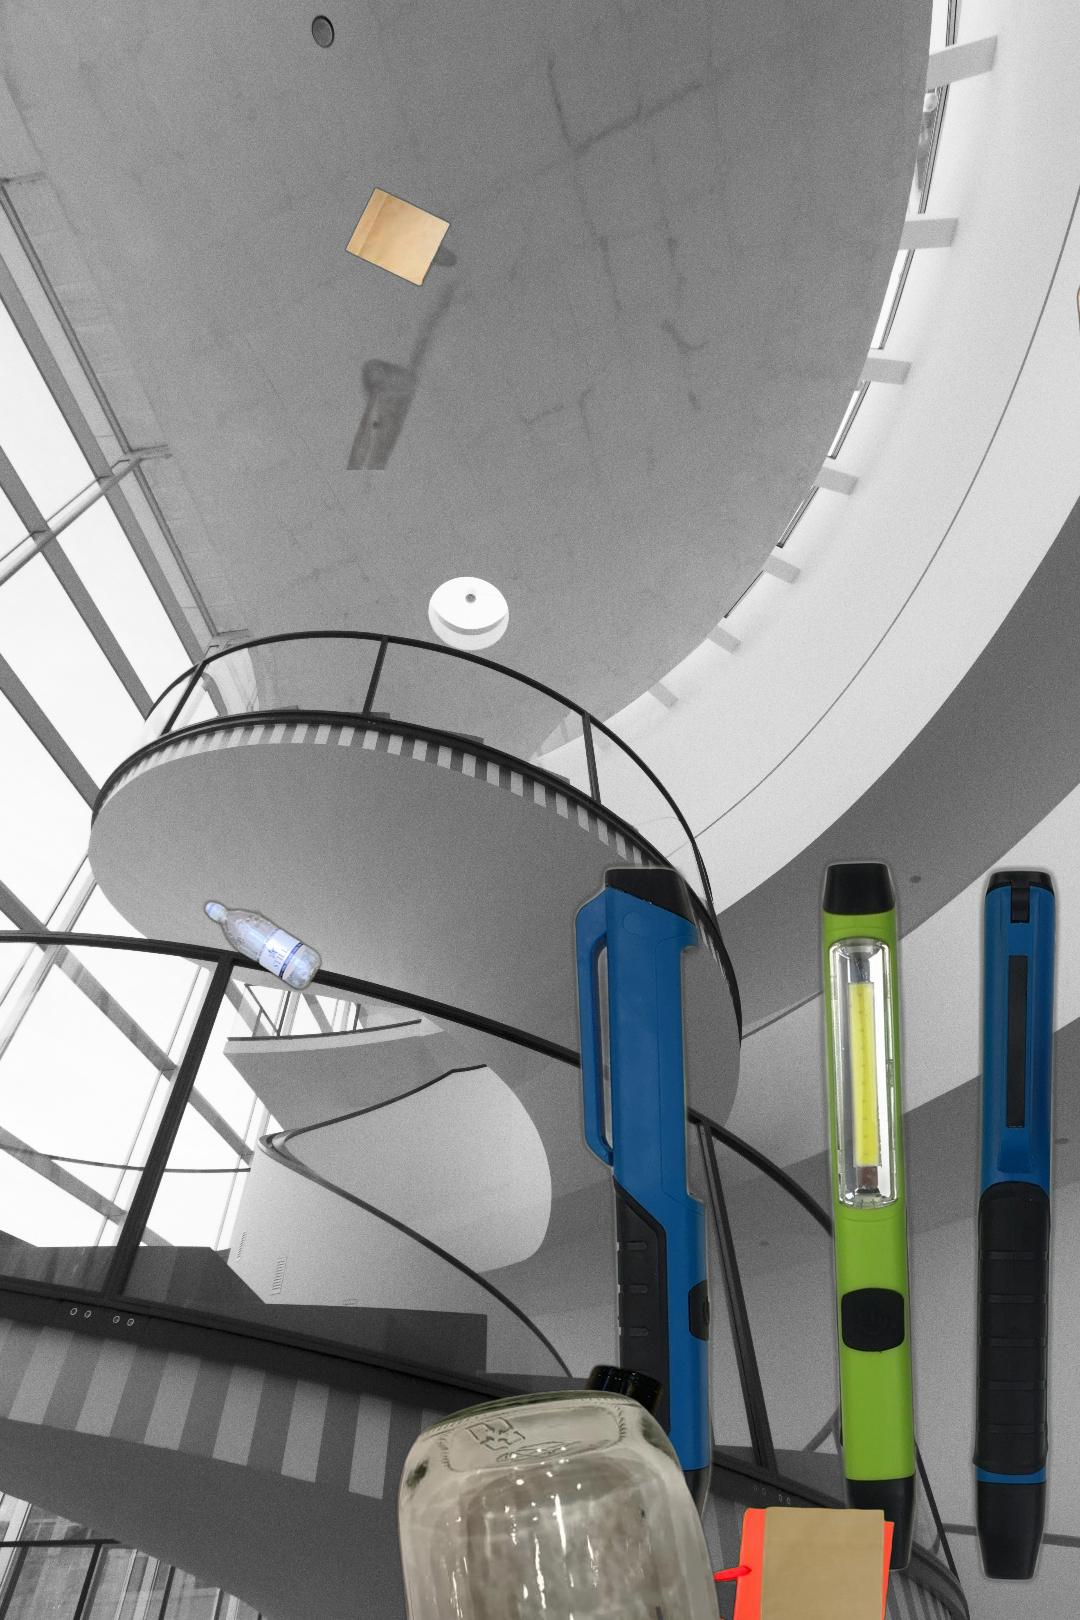glass: (392, 1386, 729, 1620), (512, 1358, 668, 1620)
paper-bag: (344, 186, 507, 470), (710, 1503, 898, 1620), (1076, 215, 1080, 370)
penholder: (563, 849, 1080, 1593)
plastic-bottles: (200, 896, 325, 996)
